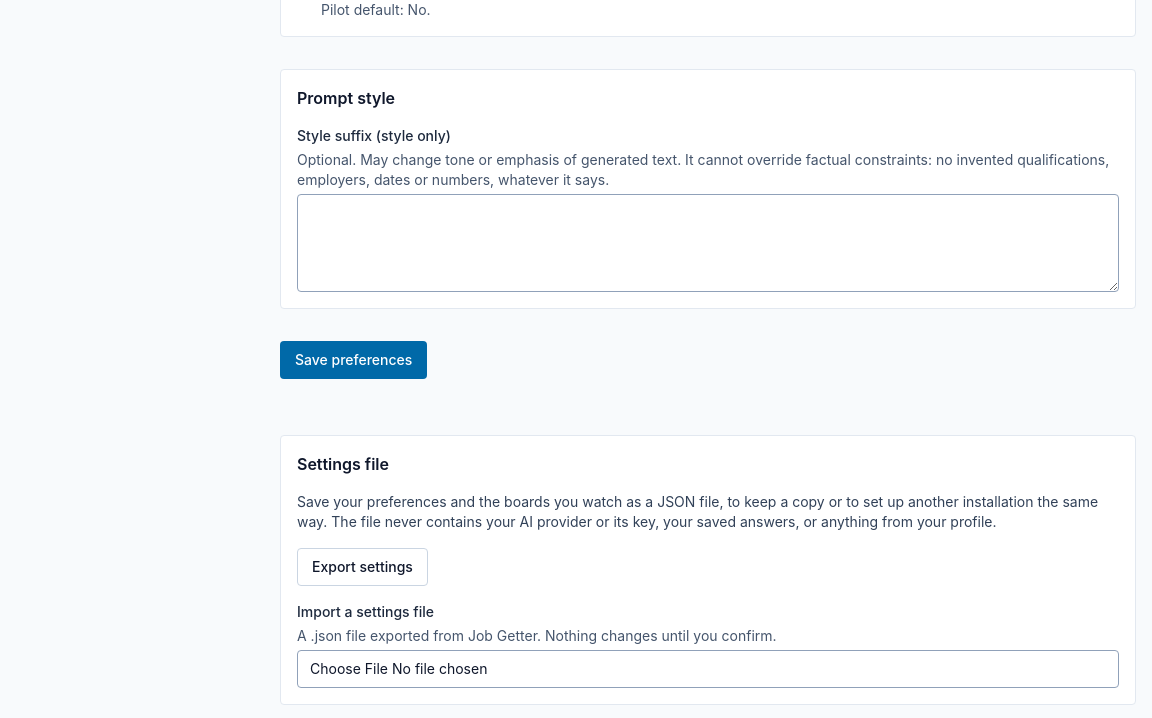
Test case: preferences screen › attaches a known field rejection to its control
This screenshot has width=1152, height=718.
(page scrolled)
Click the button "Save preferences" at (354, 360), box [280, 341, 427, 379]
(page scrolled)
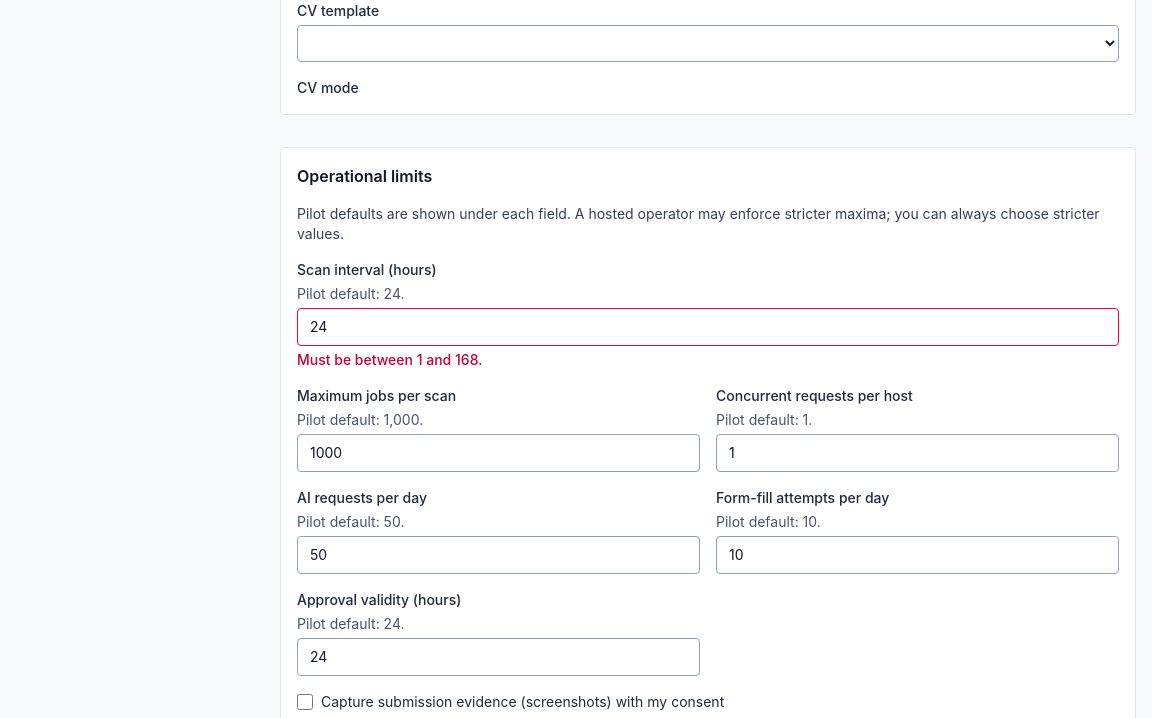
Expected: the message "Must be between 1 and 168." is shown, [297, 351, 482, 368]
